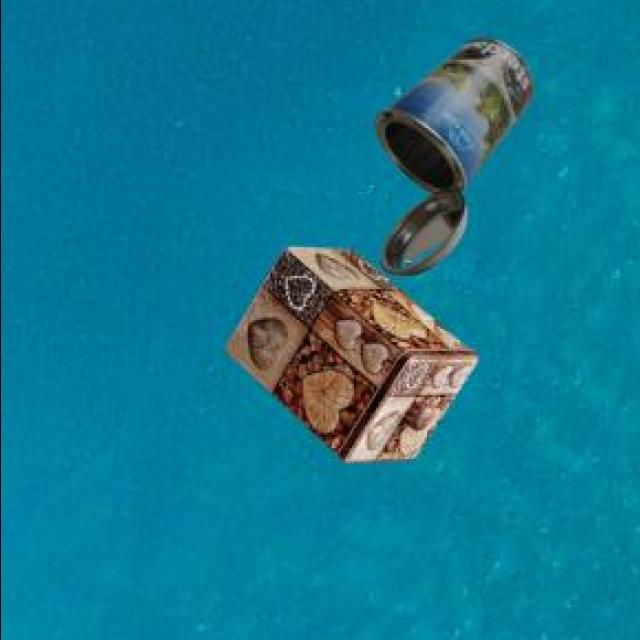logam: (222, 250, 473, 467), (372, 43, 529, 279)
